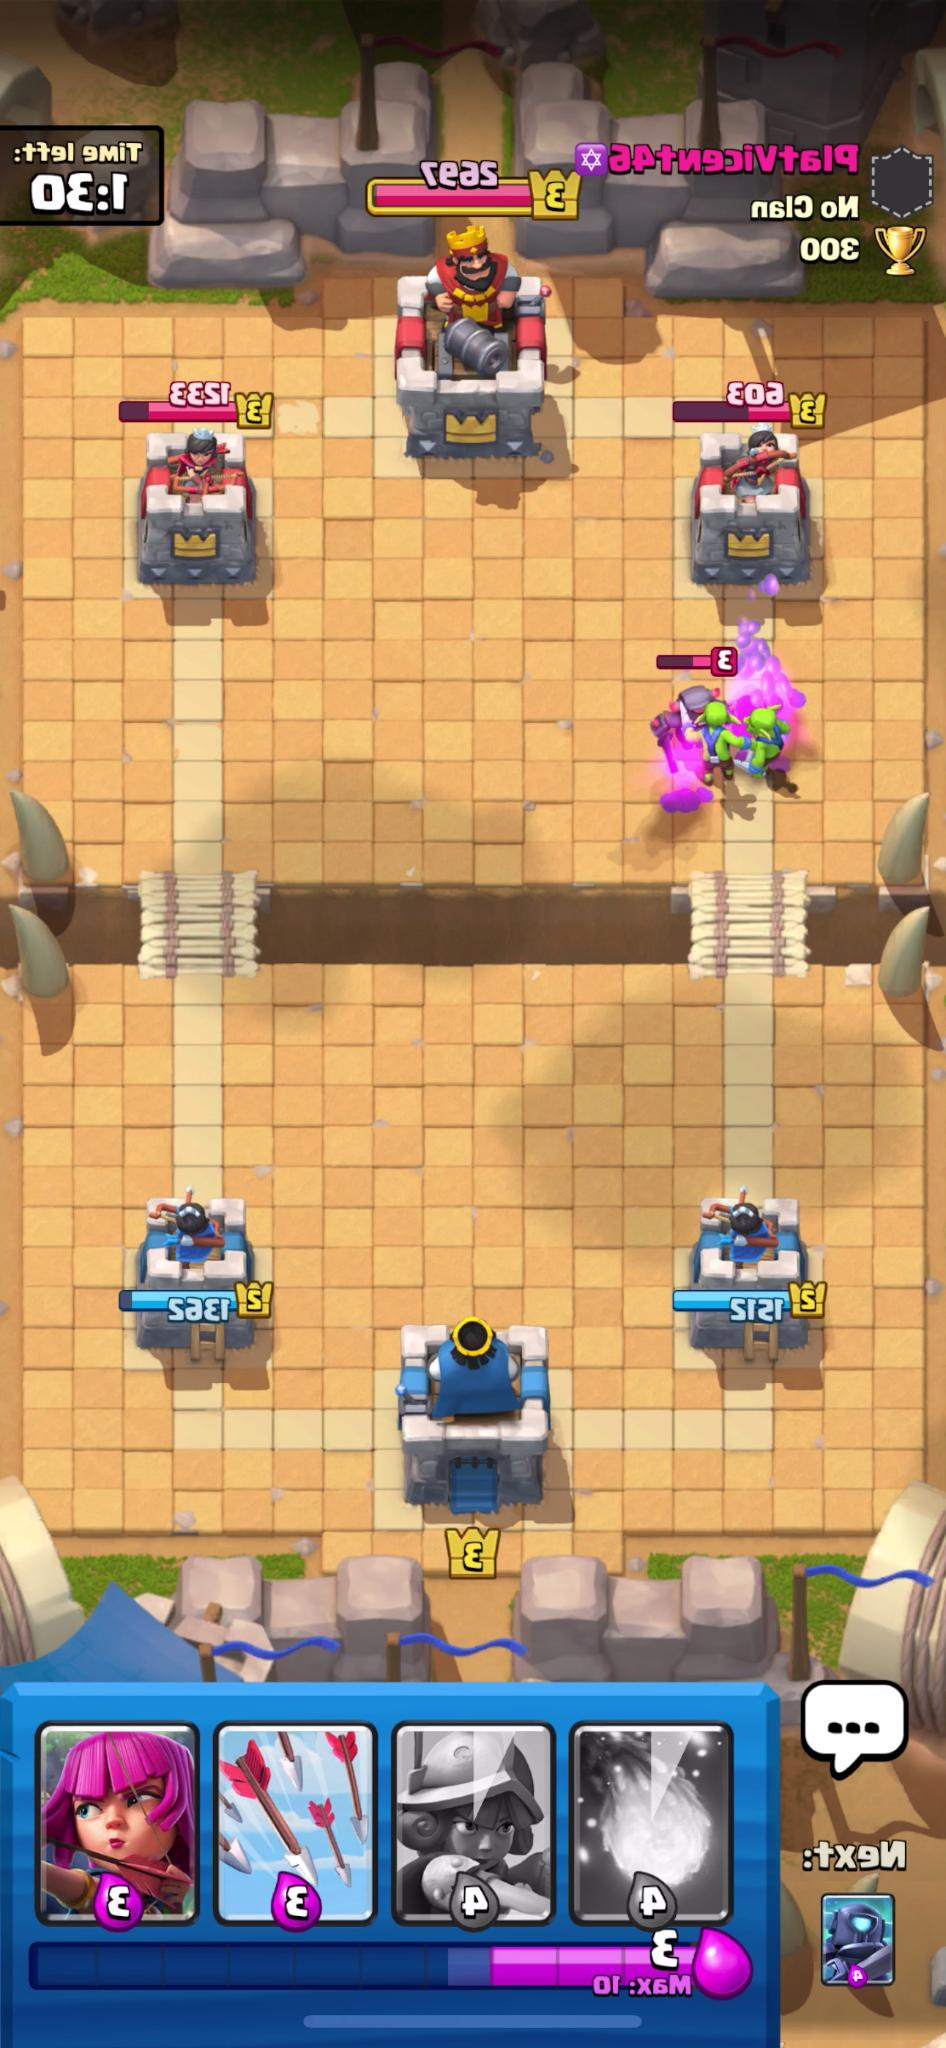gobelin_lances: (740, 713, 800, 786), (691, 691, 742, 756), (696, 737, 753, 795)
